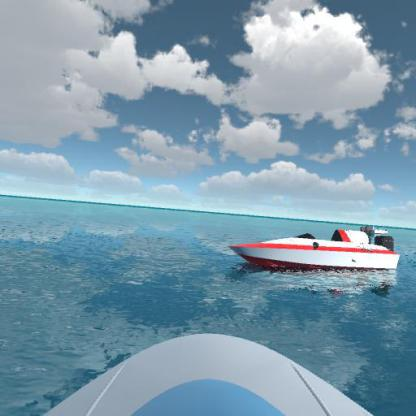usv1: (357, 218, 391, 236)
usv3: (229, 226, 402, 282)
